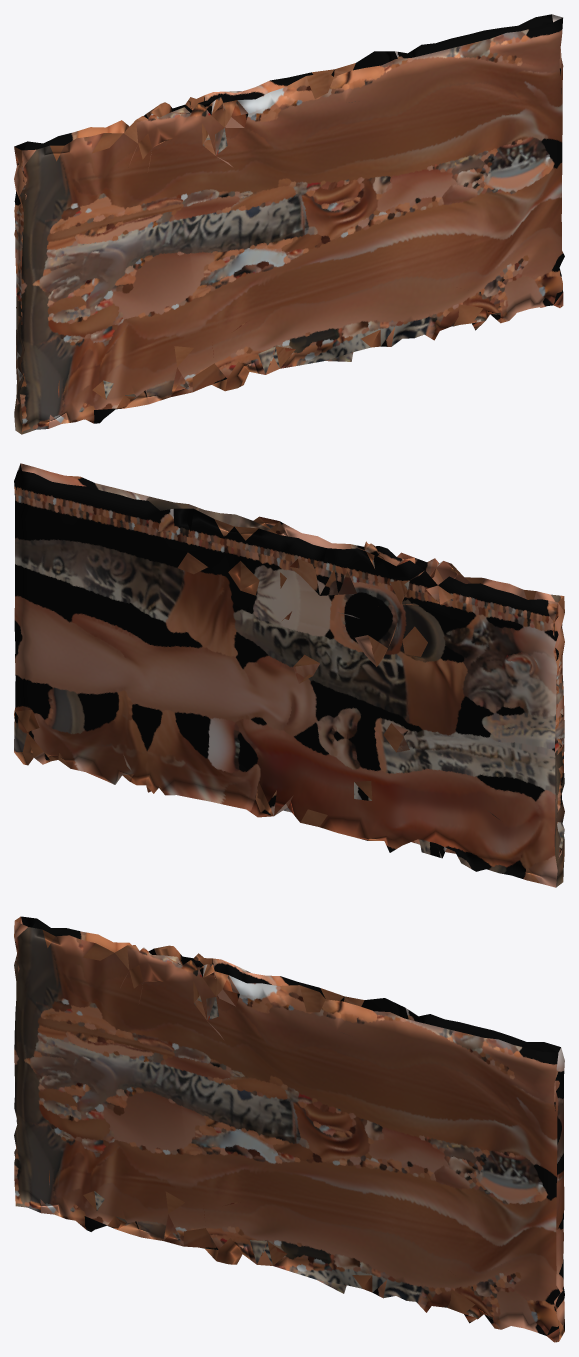
The model's file is WallPanel.fbx.
3 views of the same model, one above another, from view 1: azimuth 30°, elevation 25°; view 2: azimuth 150°, elevation 25°; view 3: azimuth 330°, elevation 25° (orthographic).
Parts seen in each view (by area): view 1: WallPanel; view 2: WallPanel; view 3: WallPanel.
Boxes of the visible parts, x1,y1,x2,y2 form: WallPanel: [14, 14, 564, 434]; WallPanel: [14, 463, 564, 887]; WallPanel: [14, 916, 564, 1342].
Size of the model in its own units: 280 by 146 by 8.46.
